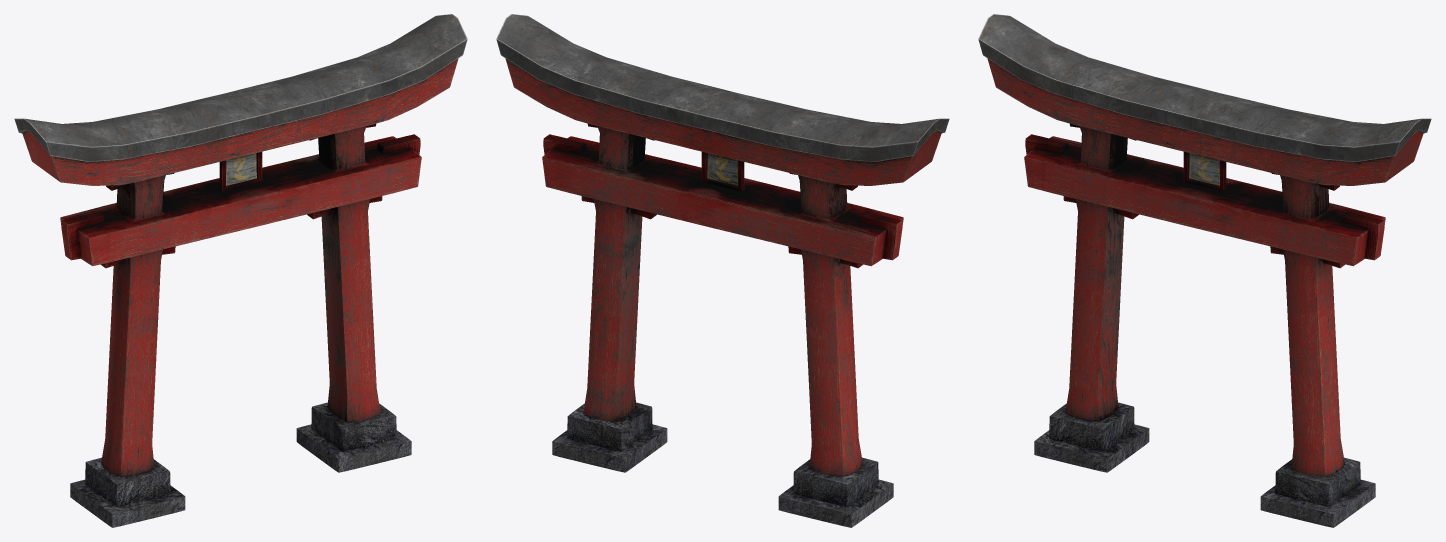
Rendered from Torii Fab.fbx.
The picture shows the model from 3 angles, left to right: view 1: azimuth 30°, elevation 25°; view 2: azimuth 150°, elevation 25°; view 3: azimuth 330°, elevation 25°; orthographic projection.
Visible parts, largest first — view 1: tate1; view 2: tate1; view 3: tate1.
Part boxes in pixels (x1=…): tate1: x1=14, y1=14, x2=467, y2=527; tate1: x1=496, y1=14, x2=949, y2=527; tate1: x1=978, y1=14, x2=1431, y2=527.
Bounding box in the file's own units: 142 × 129 × 24.31.
